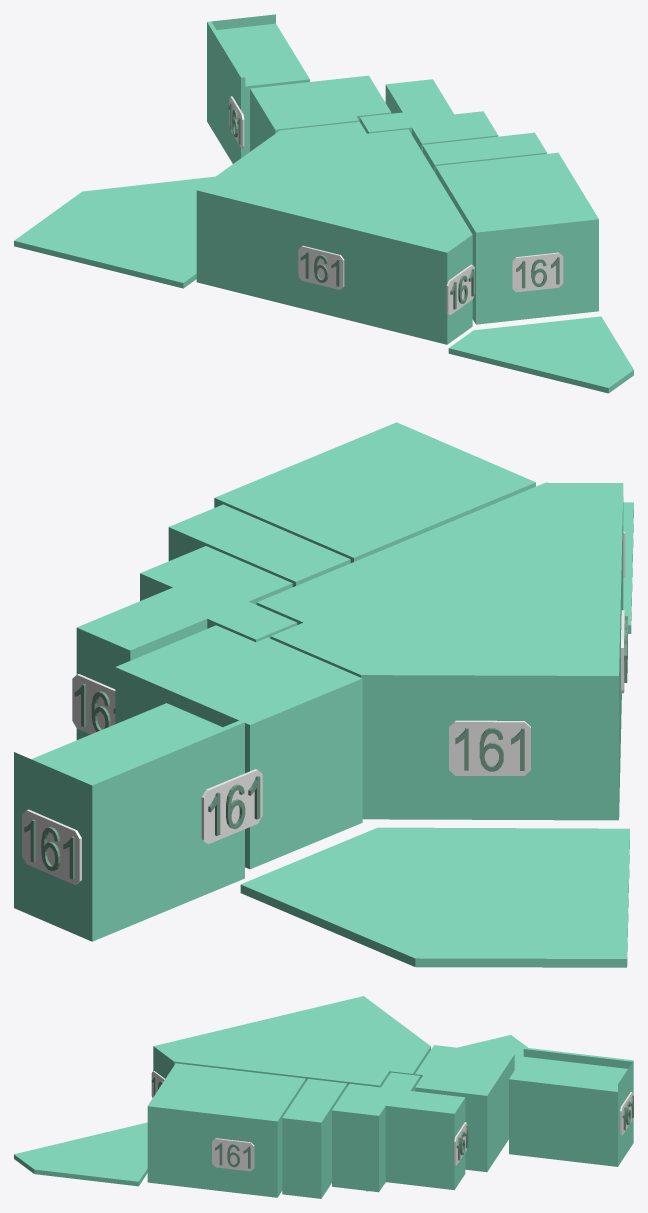
The picture shows the model from 3 angles, top to bottom: view 1: azimuth 30°, elevation 25°; view 2: azimuth 150°, elevation 25°; view 3: azimuth 270°, elevation 25°; orthographic projection. The views are drawn at different scales.
Visible parts, largest first — view 1: g_0, g_1, g_7, g_6, g_5, g_4, g_3, g_2, g_15, g_39, g_11; view 2: g_0, g_7, g_5, g_4, g_1, g_3, g_2, g_27, g_23, g_35, g_31, g_6; view 3: g_1, g_0, g_3, g_5, g_4, g_2, g_6, g_19, g_7.
Part boxes in pixels (x1=…): g_0: x1=196, y1=121, x2=472, y2=344; g_1: x1=435, y1=152, x2=598, y2=324; g_7: x1=14, y1=176, x2=214, y2=288; g_6: x1=448, y1=316, x2=633, y2=393; g_5: x1=207, y1=14, x2=309, y2=163; g_4: x1=250, y1=75, x2=391, y2=151; g_3: x1=359, y1=79, x2=498, y2=151; g_2: x1=422, y1=132, x2=546, y2=172; g_15: x1=512, y1=252, x2=563, y2=292; g_39: x1=298, y1=245, x2=344, y2=289; g_11: x1=446, y1=264, x2=474, y2=315; g_0: x1=256, y1=482, x2=623, y2=820; g_7: x1=240, y1=827, x2=629, y2=967; g_5: x1=14, y1=703, x2=244, y2=941; g_4: x1=115, y1=625, x2=362, y2=869; g_1: x1=214, y1=422, x2=535, y2=562; g_3: x1=76, y1=546, x2=297, y2=739; g_2: x1=168, y1=504, x2=350, y2=586; g_27: x1=449, y1=720, x2=530, y2=775; g_23: x1=201, y1=769, x2=262, y2=844; g_35: x1=22, y1=809, x2=81, y2=884; g_31: x1=72, y1=674, x2=115, y2=734; g_6: x1=623, y1=502, x2=633, y2=633; g_1: x1=147, y1=1063, x2=305, y2=1197; g_0: x1=153, y1=996, x2=430, y2=1087; g_3: x1=332, y1=1072, x2=465, y2=1192; g_5: x1=509, y1=1047, x2=633, y2=1166; g_4: x1=415, y1=1045, x2=514, y2=1172; g_2: x1=282, y1=1079, x2=347, y2=1198; g_6: x1=14, y1=1122, x2=147, y2=1186; g_19: x1=212, y1=1138, x2=254, y2=1171; g_7: x1=458, y1=1035, x2=527, y2=1069.
Bounding box in the file's own units: 11.54 × 2.85 × 18.36.
